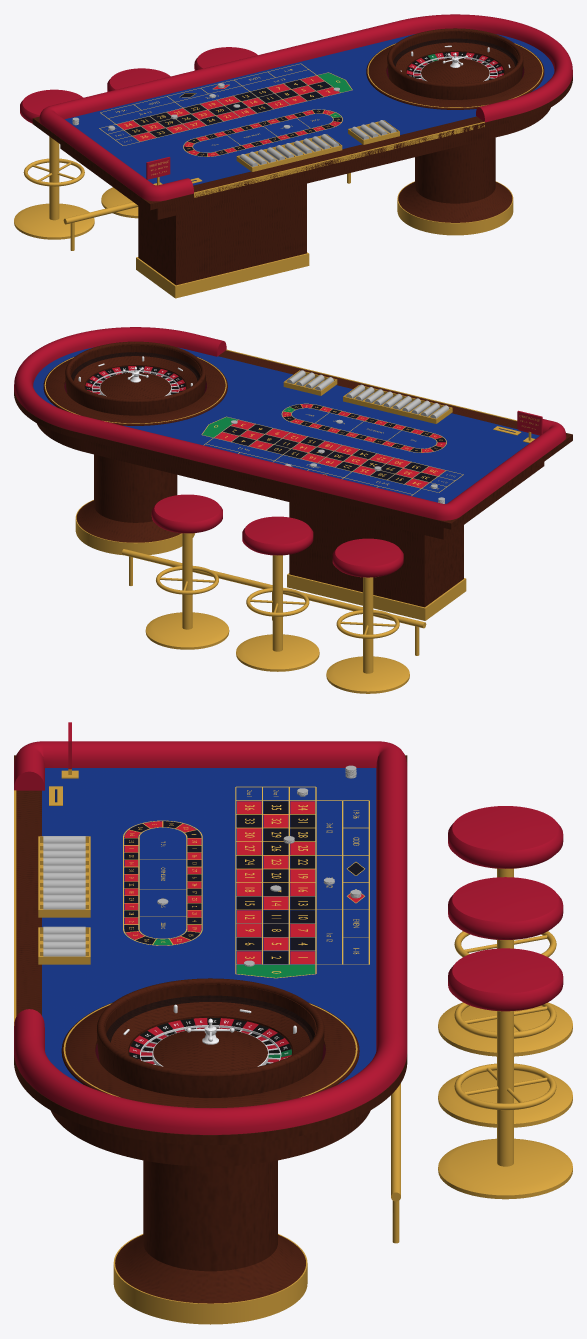
File: roulette.glb
3 views of the same model, one above another, from view 1: azimuth 30°, elevation 25°; view 2: azimuth 150°, elevation 25°; view 3: azimuth 270°, elevation 25° (orthographic). The views are drawn at different scales.
Visible parts, largest first — view 1: Table__Mat_WoodMahogany, Table__CMat_Felt, Table__CMat_Leather, Table__CMat_Gold, Wheel_Bowl__Mat_WoodMahogany, Felt_Layout__CMat_PrintGold, Felt_Layout__CMat_FeltBlack, Felt_Layout__CMat_FeltRed, Rotor__Mat_WoodMahogany, Wheel_Bowl__Mat_WoodTrackDark, Rotor__Mat_Chrome, Table__CMat_CrimsonLacquer (+2 smaller); view 2: Table__Mat_WoodMahogany, Table__CMat_Leather, Table__CMat_Gold, Table__CMat_Felt, Wheel_Bowl__Mat_WoodMahogany, Felt_Layout__CMat_FeltRed, Felt_Layout__CMat_FeltBlack, Felt_Layout__CMat_PrintGold, Rotor__Mat_WoodMahogany, Wheel_Bowl__Mat_WoodTrackDark, Rotor__Mat_Chrome, Rotor__Mat_PocketRed (+2 smaller); view 3: Table__CMat_Felt, Table__CMat_Leather, Table__Mat_WoodMahogany, Table__CMat_Gold, Wheel_Bowl__Mat_WoodMahogany, Felt_Layout__CMat_FeltBlack, Felt_Layout__CMat_FeltRed, Felt_Layout__CMat_PrintGold, Rotor__Mat_WoodMahogany, Wheel_Bowl__Mat_WoodTrackDark, Rotor__Mat_Chrome, Rotor__Mat_PocketRed (+2 smaller).
Boxes of the visible parts, left/top/right/bottom form: Table__Mat_WoodMahogany: left=32, top=43, right=572, bottom=285; Table__CMat_Felt: left=65, top=34, right=554, bottom=185; Table__CMat_Leather: left=20, top=14, right=572, bottom=201; Table__CMat_Gold: left=14, top=43, right=543, bottom=298; Wheel_Bowl__Mat_WoodMahogany: left=387, top=28, right=523, bottom=99; Felt_Layout__CMat_PrintGold: left=99, top=63, right=352, bottom=156; Felt_Layout__CMat_FeltBlack: left=125, top=80, right=341, bottom=156; Felt_Layout__CMat_FeltRed: left=117, top=75, right=340, bottom=156; Rotor__Mat_WoodMahogany: left=406, top=52, right=500, bottom=83; Wheel_Bowl__Mat_WoodTrackDark: left=393, top=38, right=517, bottom=66; Rotor__Mat_Chrome: left=413, top=52, right=497, bottom=81; Table__CMat_CrimsonLacquer: left=146, top=157, right=170, bottom=179; Table__Mat_WoodMahogany: left=14, top=350, right=572, bottom=607; Table__CMat_Leather: left=14, top=327, right=566, bottom=577; Table__CMat_Gold: left=44, top=349, right=534, bottom=693; Table__CMat_Felt: left=33, top=347, right=539, bottom=503; Wheel_Bowl__Mat_WoodMahogany: left=65, top=341, right=205, bottom=415; Felt_Layout__CMat_FeltRed: left=215, top=404, right=445, bottom=487; Felt_Layout__CMat_FeltBlack: left=223, top=404, right=445, bottom=483; Felt_Layout__CMat_PrintGold: left=201, top=403, right=463, bottom=495; Rotor__Mat_WoodMahogany: left=85, top=366, right=185, bottom=398; Wheel_Bowl__Mat_WoodTrackDark: left=71, top=352, right=200, bottom=380; Rotor__Mat_Chrome: left=92, top=366, right=179, bottom=396; Rotor__Mat_PocketRed: left=85, top=366, right=185, bottom=393; Table__CMat_Felt: left=42, top=768, right=376, bottom=1084; Table__CMat_Leather: left=14, top=741, right=563, bottom=1134; Table__Mat_WoodMahogany: left=14, top=755, right=407, bottom=1303; Table__CMat_Gold: left=14, top=769, right=572, bottom=1324; Wheel_Bowl__Mat_WoodMahogany: left=97, top=978, right=324, bottom=1097; Felt_Layout__CMat_FeltBlack: left=124, top=801, right=363, bottom=963; Felt_Layout__CMat_FeltRed: left=124, top=801, right=364, bottom=963; Felt_Layout__CMat_PrintGold: left=123, top=786, right=369, bottom=978; Rotor__Mat_WoodMahogany: left=129, top=1017, right=291, bottom=1071; Wheel_Bowl__Mat_WoodTrackDark: left=106, top=995, right=314, bottom=1042; Rotor__Mat_Chrome: left=140, top=1018, right=281, bottom=1066; Rotor__Mat_PocketRed: left=129, top=1018, right=291, bottom=1063.
Size of the model in its own units: 3.2 by 1.08 by 1.99.
Materials: 39 (6 with a texture image).
